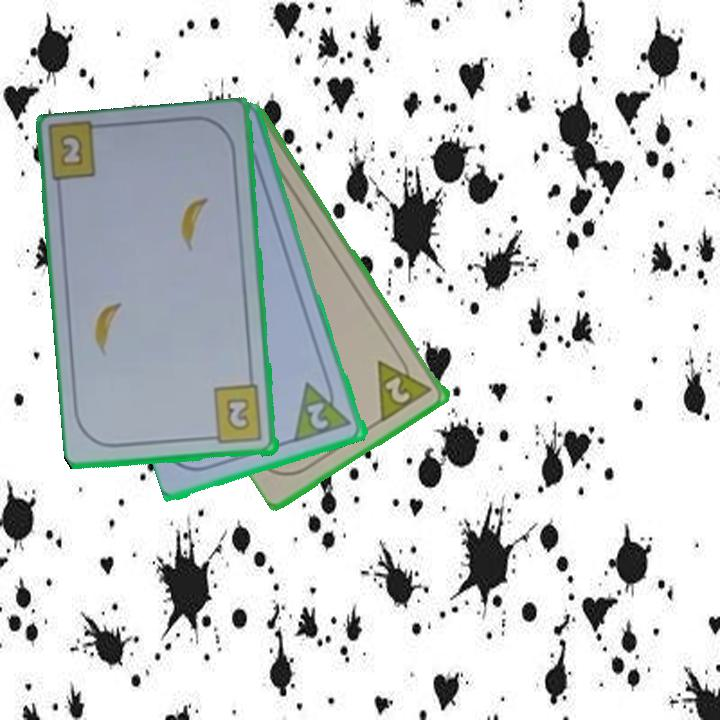2b: (204, 382, 266, 447), (54, 130, 87, 170)
2p: (291, 373, 356, 446), (382, 373, 414, 407)
